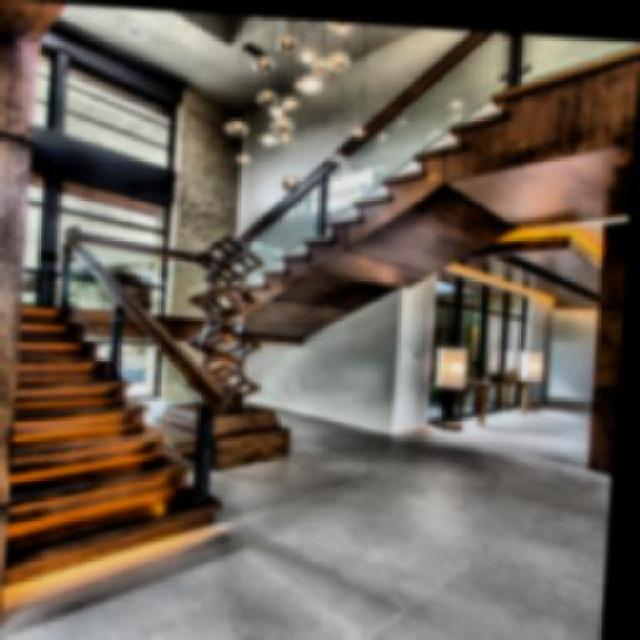stair: (0, 290, 237, 592)
